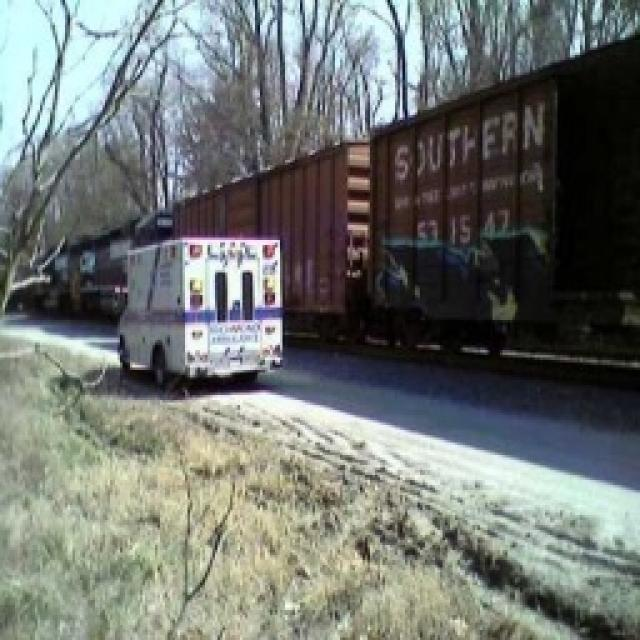emergency-vehicle: (43, 174, 349, 479)
